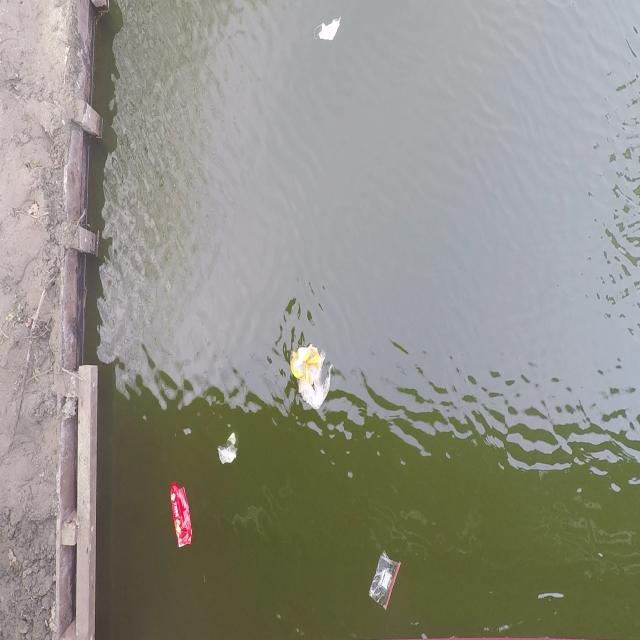Autre plastique: (163, 475, 200, 554)
Non plastique: (312, 12, 346, 52)
Sac plastique: (282, 343, 336, 416), (366, 545, 404, 617), (213, 428, 243, 480)
